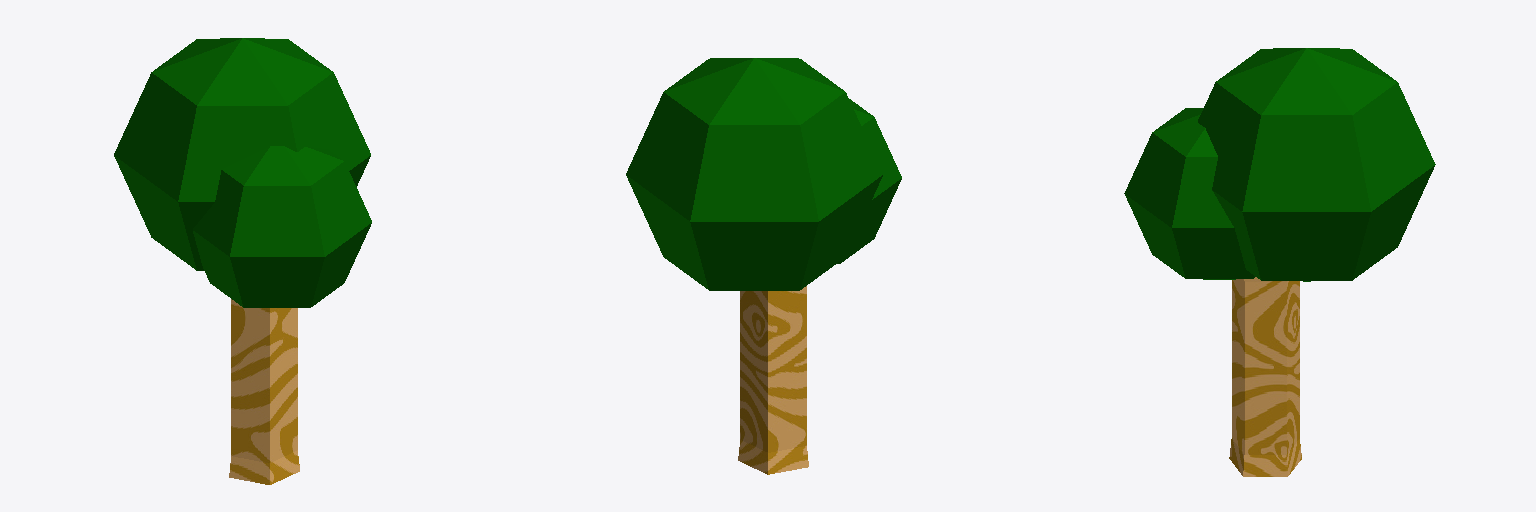
The picture shows the model from 3 angles: view 1: azimuth 30°, elevation 25°; view 2: azimuth 150°, elevation 25°; view 3: azimuth 270°, elevation 25°; orthographic projection.
Parts seen in each view (by area): view 1: Cylinder; view 2: Cylinder; view 3: Cylinder.
Part boxes in pixels (bbox=[...]): Cylinder: bbox=[114, 38, 371, 484]; Cylinder: bbox=[626, 58, 901, 474]; Cylinder: bbox=[1124, 48, 1435, 476].
Size of the model in its own units: 4.28 by 8.79 by 5.96.
Materials: 2 (1 with a texture image).